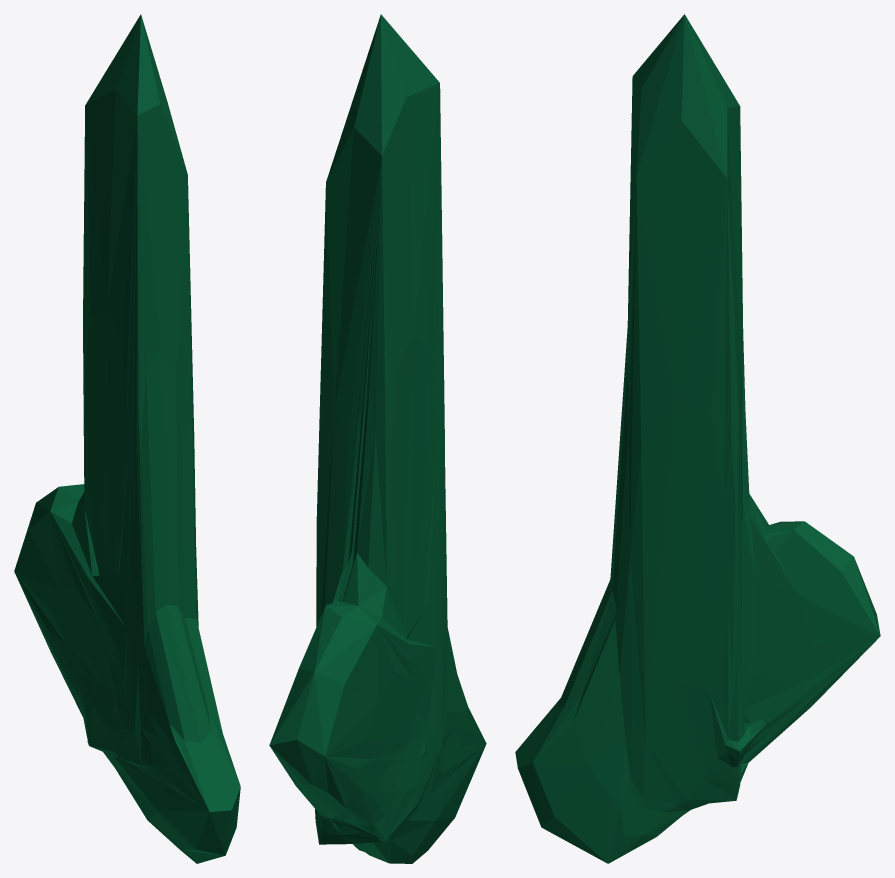
The picture shows the model from 3 angles, left to right: view 1: azimuth 30°, elevation 25°; view 2: azimuth 150°, elevation 25°; view 3: azimuth 270°, elevation 25°; orthographic projection. The views are drawn at different scales.
Visible parts, largest first — view 1: 113_Cube.472; view 2: 113_Cube.472; view 3: 113_Cube.472.
Boxes of the visible parts, x1=… form: 113_Cube.472: x1=14, y1=14, x2=240, y2=863; 113_Cube.472: x1=269, y1=14, x2=486, y2=863; 113_Cube.472: x1=515, y1=14, x2=880, y2=863.
Bounding box in the file's own units: 1.42 × 12.96 × 5.14.
